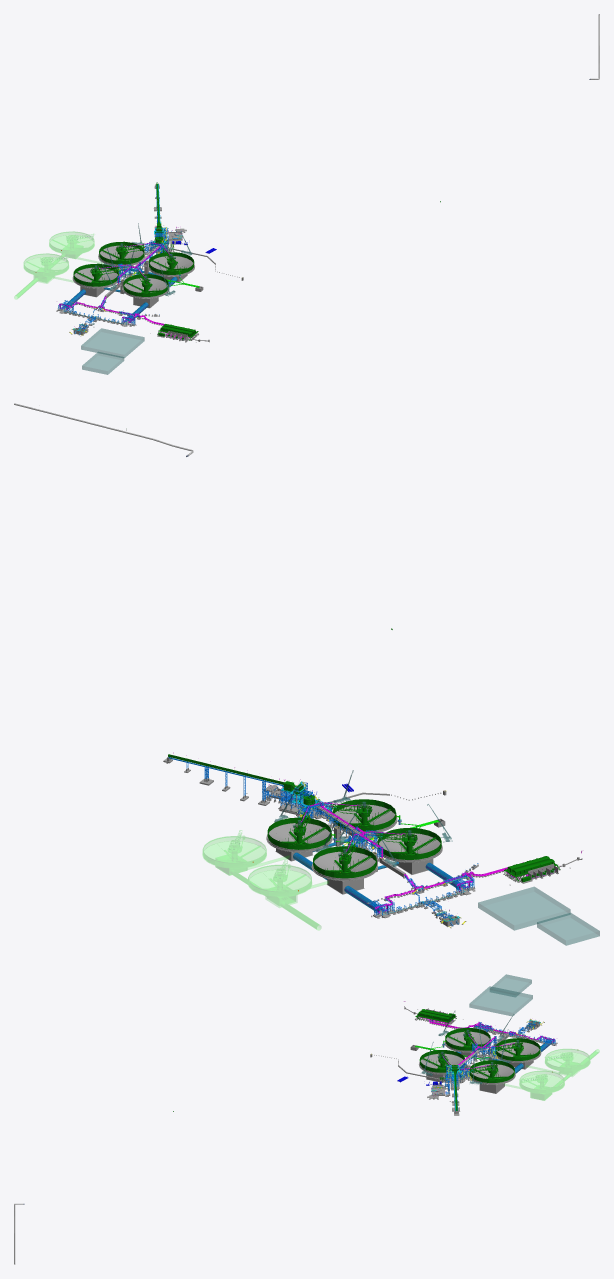
The model's file is area1411nube_movil.glb.
The picture shows the model from 3 angles, top to bottom: view 1: azimuth 90°, elevation 25°; view 2: azimuth 150°, elevation 25°; view 3: azimuth 270°, elevation 25°; orthographic projection. The views are drawn at different scales.
Visible parts, largest first — view 1: C_A3A3A3_15, C_008000_1, C_408080_A30_10, C_00FF00_A10_6, C_0080FF_3, C_FF00FF_20; view 2: C_A3A3A3_15, C_008000_1, C_408080_A30_10, C_00FF00_A10_6, C_0080FF_3, C_FF00FF_20, C_0080C0_A50_2; view 3: C_A3A3A3_15, C_008000_1, C_408080_A30_10, C_00FF00_A10_6, C_0080FF_3, C_FF00FF_20.
Boxes of the visible parts, x1,y1,x2,y2 form: C_A3A3A3_15: [56, 184, 243, 342]; C_008000_1: [73, 182, 440, 340]; C_408080_A30_10: [64, 223, 192, 374]; C_00FF00_A10_6: [14, 231, 103, 298]; C_0080FF_3: [58, 184, 181, 332]; C_FF00FF_20: [59, 242, 190, 339]; C_A3A3A3_15: [163, 757, 582, 928]; C_008000_1: [168, 628, 560, 882]; C_408080_A30_10: [274, 770, 599, 945]; C_00FF00_A10_6: [202, 830, 328, 929]; C_0080FF_3: [168, 757, 554, 922]; C_FF00FF_20: [296, 802, 555, 913]; C_0080C0_A50_2: [293, 807, 466, 913]; C_A3A3A3_15: [370, 1006, 557, 1115]; C_008000_1: [173, 1009, 540, 1111]; C_408080_A30_10: [421, 974, 558, 1084]; C_00FF00_A10_6: [504, 1049, 599, 1100]; C_0080FF_3: [428, 1020, 555, 1111]; C_FF00FF_20: [418, 1016, 554, 1069].
Size of the model in its own units: 923 by 58.79 by 707.
